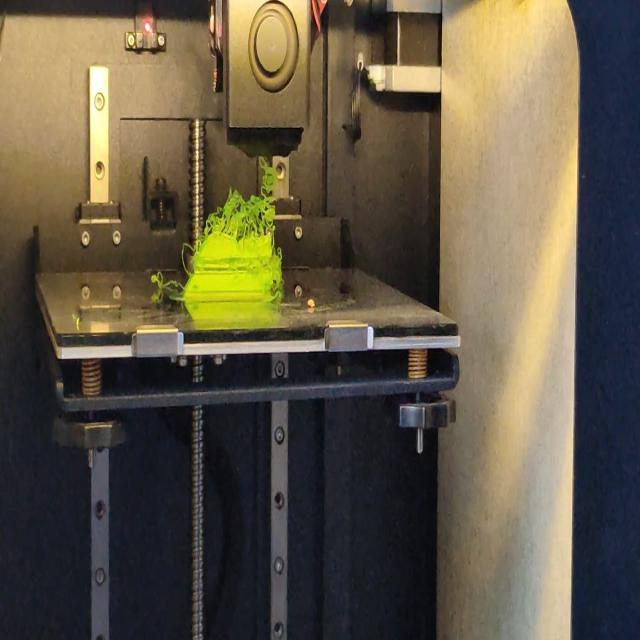spaghetti: (206, 158, 278, 233), (180, 239, 196, 274), (149, 269, 177, 289), (272, 289, 284, 304)
